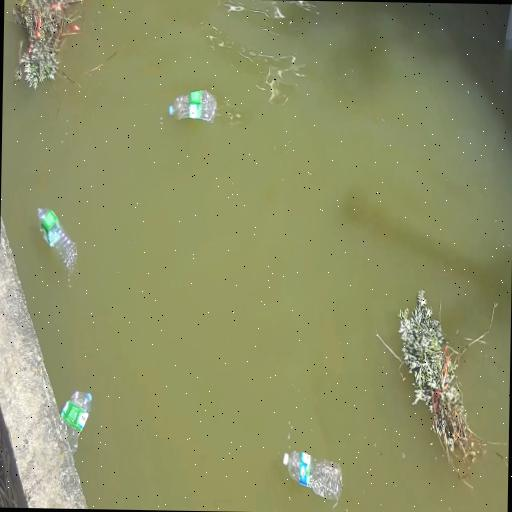plastic: (282, 452, 341, 501), (37, 208, 76, 271), (60, 391, 92, 455), (168, 90, 216, 123), (282, 454, 288, 466)
twig: (399, 290, 481, 459), (14, 0, 84, 89)
